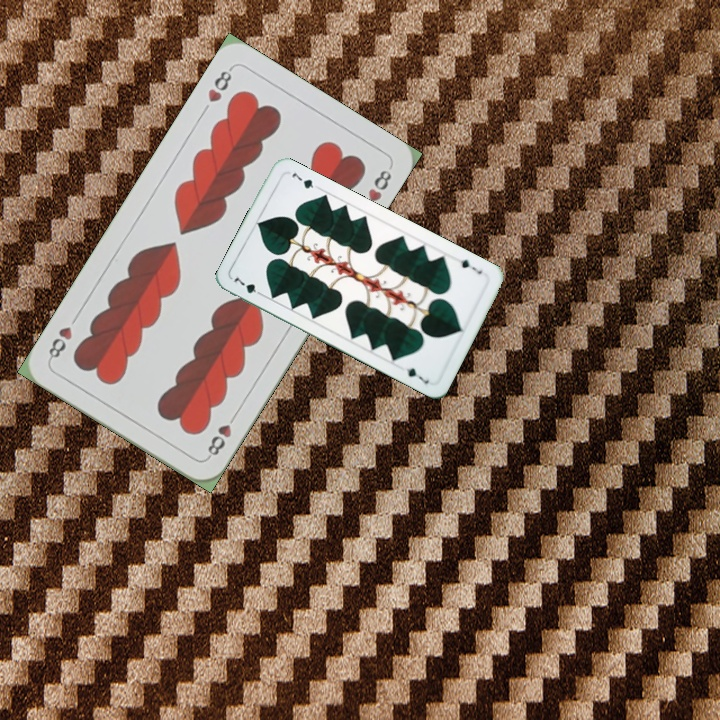G7: (229, 272, 267, 299), (456, 255, 485, 277)
H8: (203, 408, 240, 461), (203, 63, 235, 105)
